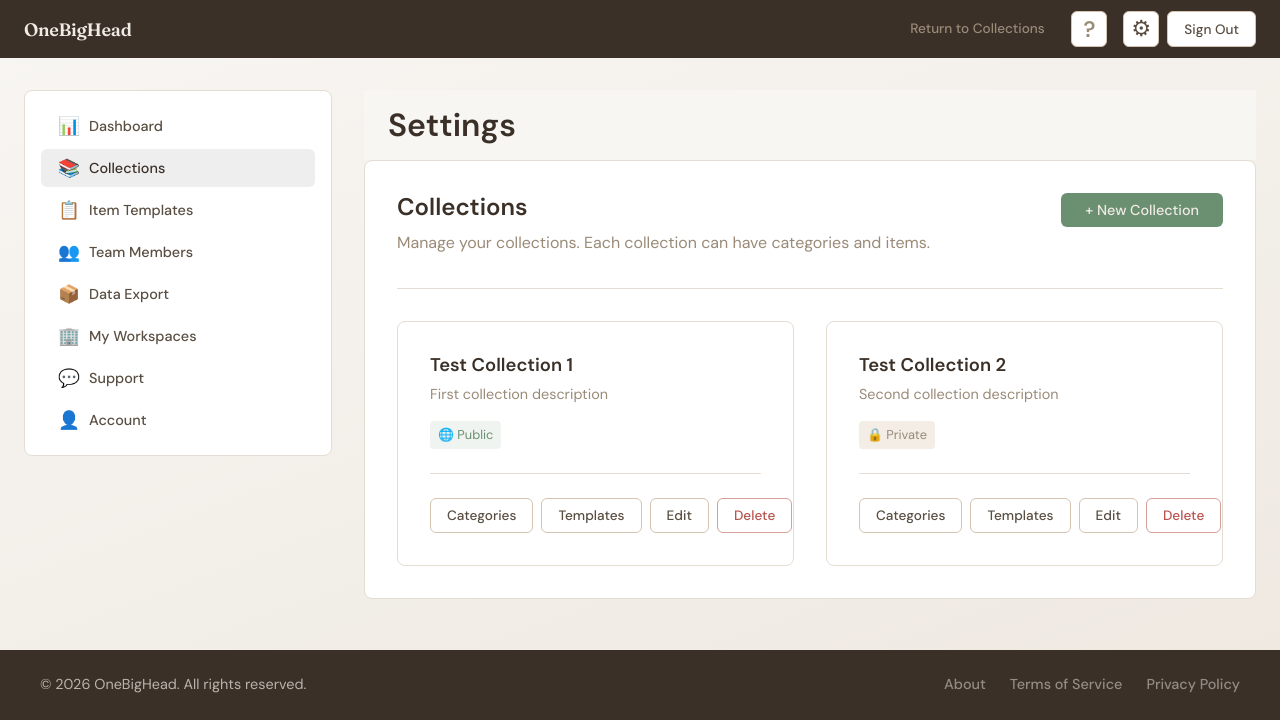
Test: SettingsView › collections section - edit mode › should populate form with collection data
The image size is (1280, 720).
Click the button "Edit" below "🌐 Public" at (679, 515), box [650,498,709,533]
(page scrolled)
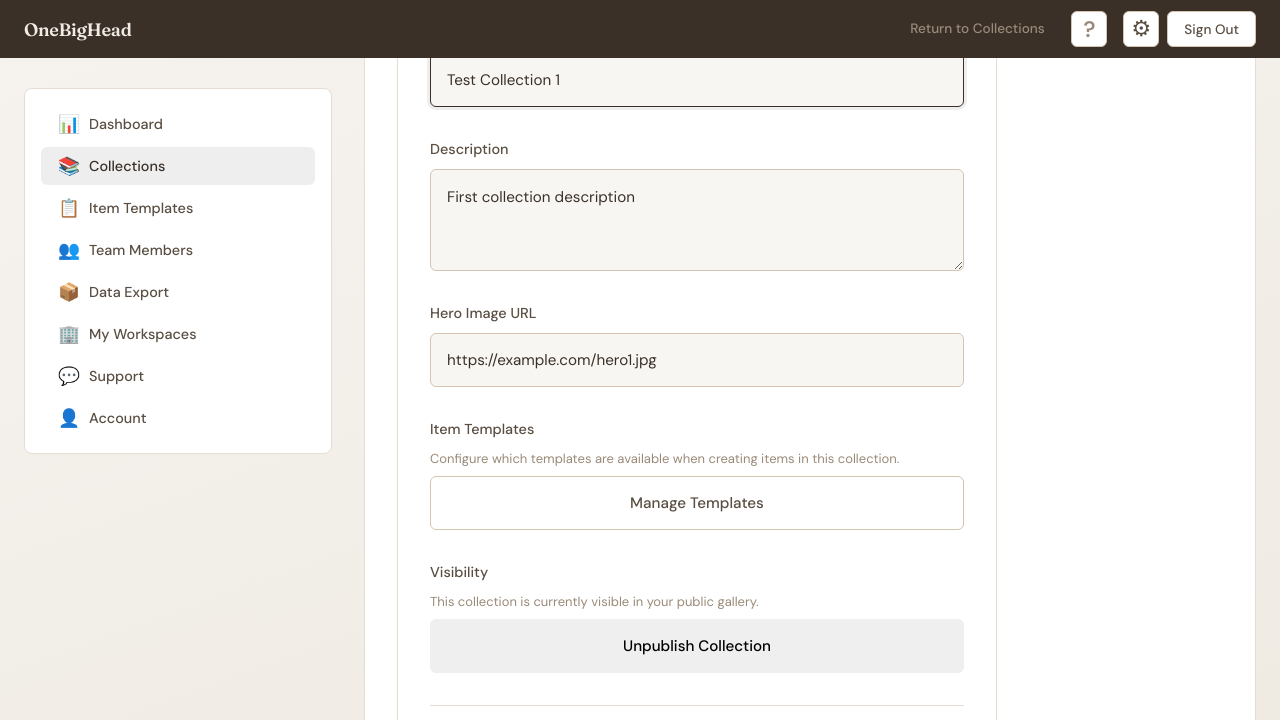
expect the field showing "Test Collection 1" below "Name" is shown: met, box [430,54,964,108]
expect the text box showing "First collection description" is shown: met, box [430,169,964,271]
expect the field showing "https://example.com/hero1.jpg" below "Hero Image URL" is shown: met, box [430,333,964,387]
